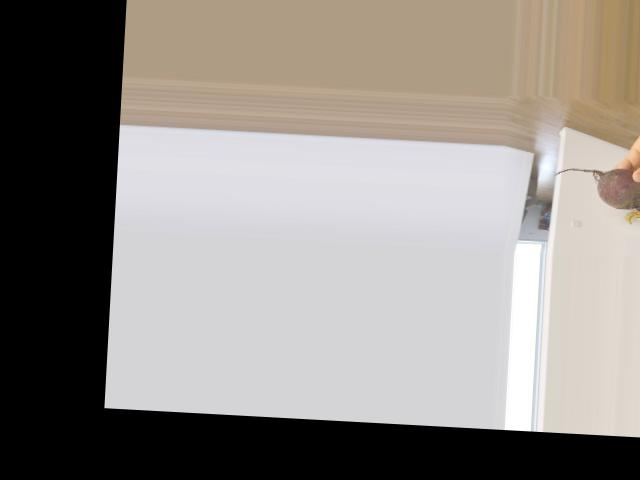beet: (551, 165, 640, 212)
